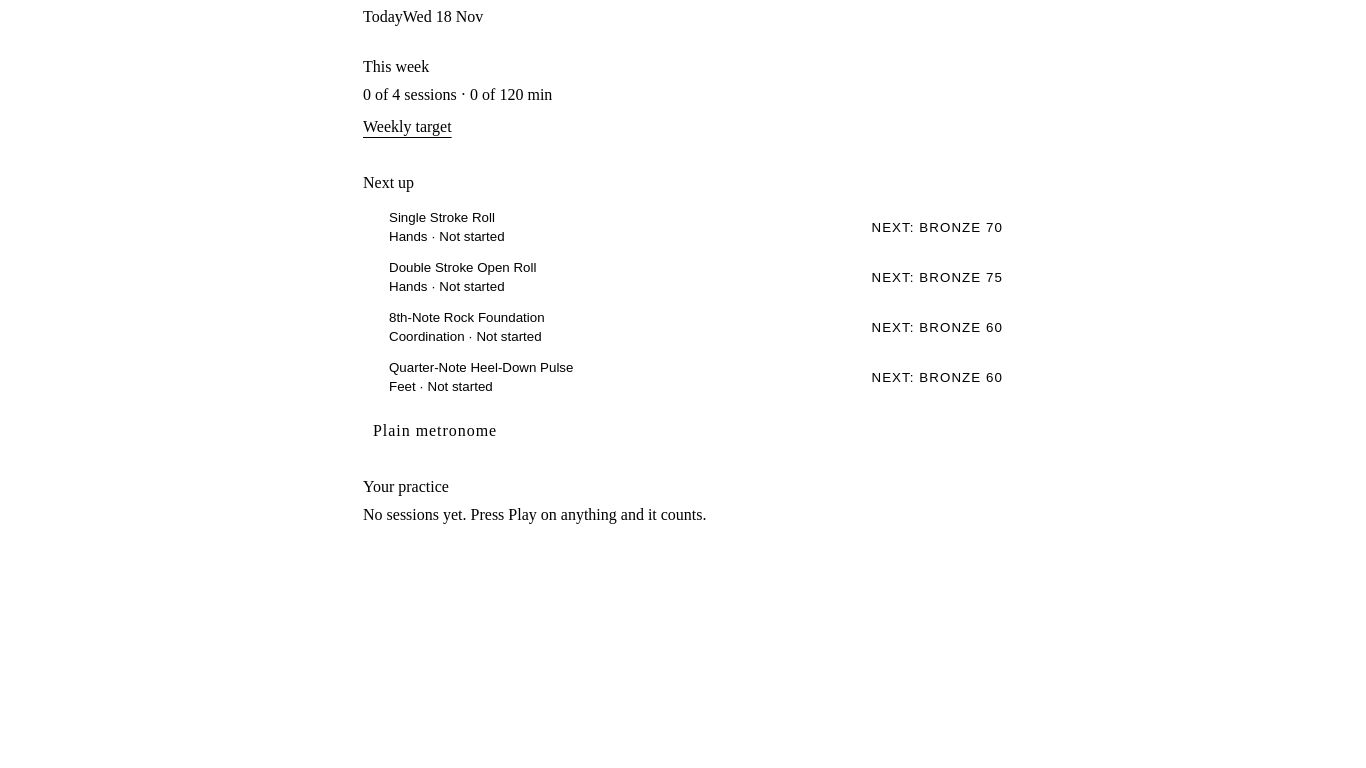
TodayScreen › edits the weekly target in the settings sheet, clamped to range
Later steps or results of the test are not shown.
Expected: the heading "This week" is shown, [363,58,429,75]
Click the button "Weekly target".
click(407, 127)  # box [363,112,452,142]
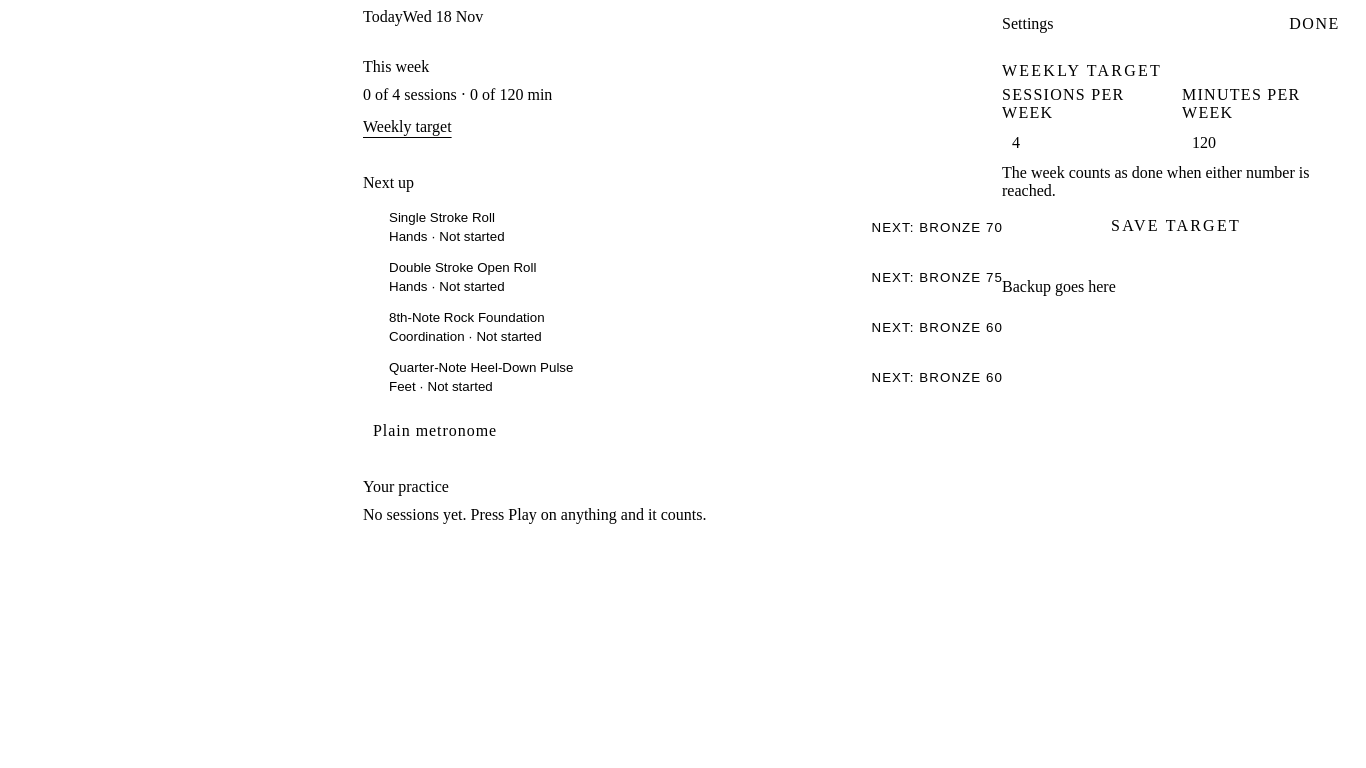
Expected: the text "Backup goes here" is shown, [1002,278,1116,295]
